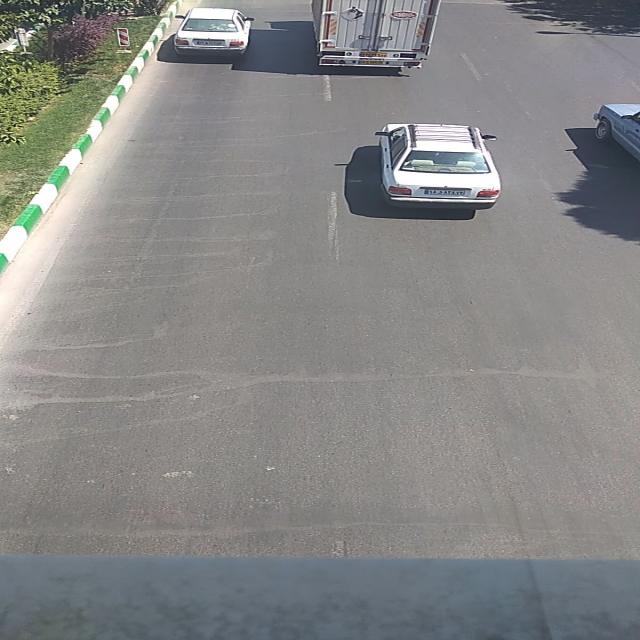car: (372, 121, 503, 211), (172, 9, 258, 56), (593, 102, 640, 166)
truck: (310, 1, 443, 69)
